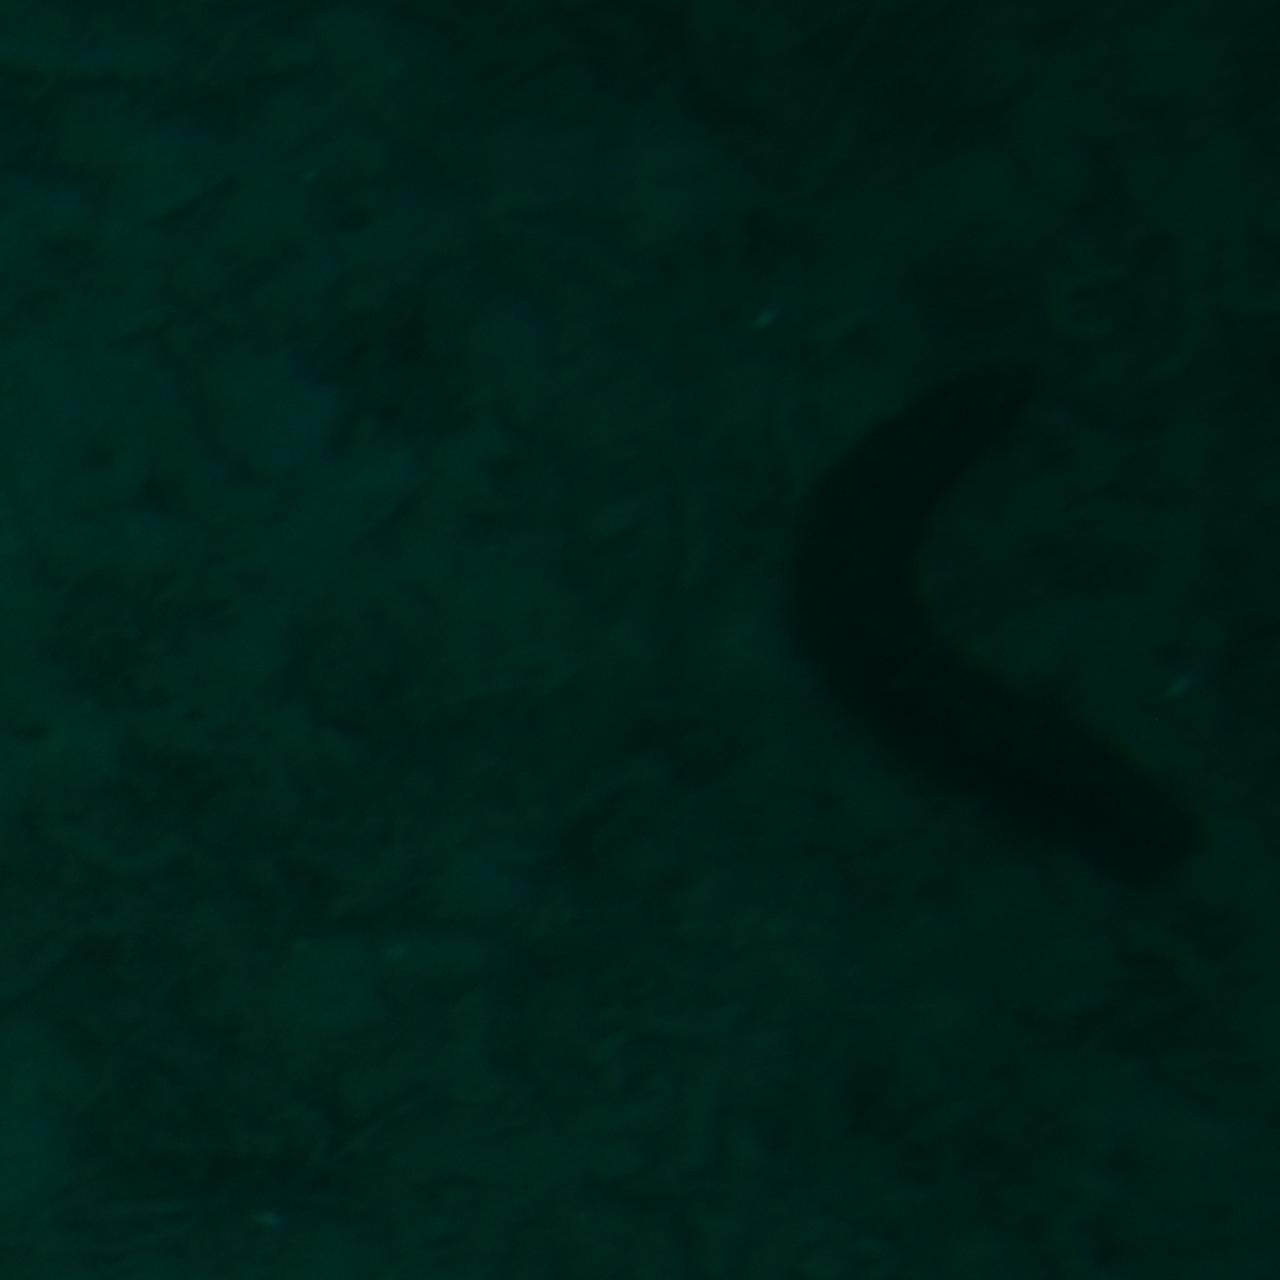Holothuria tubulosa: (774, 350, 1218, 930)
